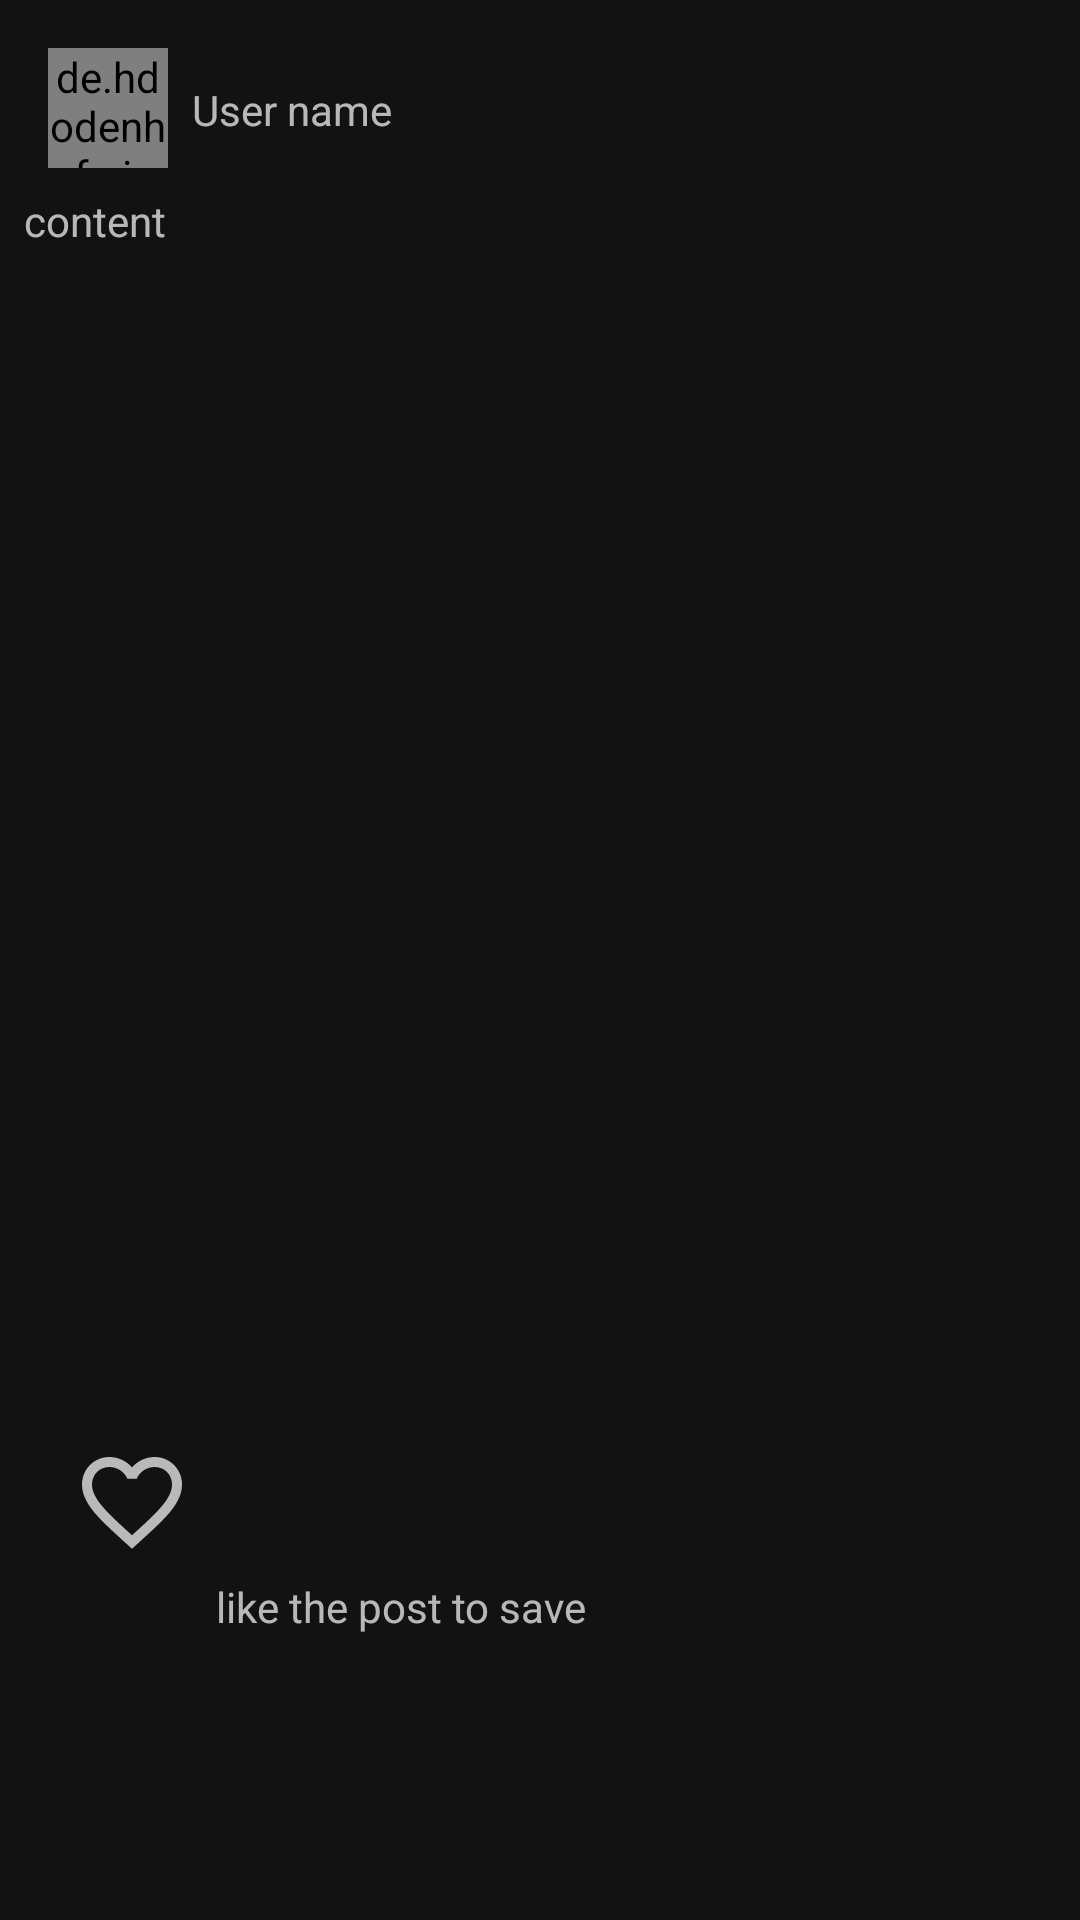

Icons on this 1080×1920 Android screen, each with its box as (x1, y1, x2, y2):
favorite border: (82, 1457, 182, 1549)
